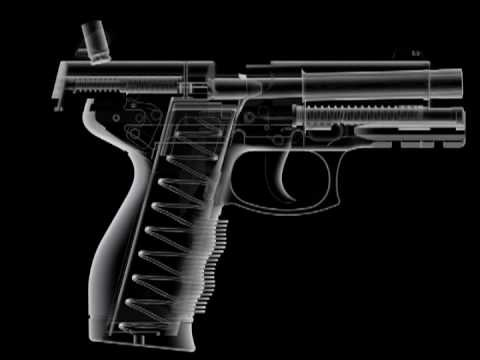gun: (46, 27, 469, 360)
